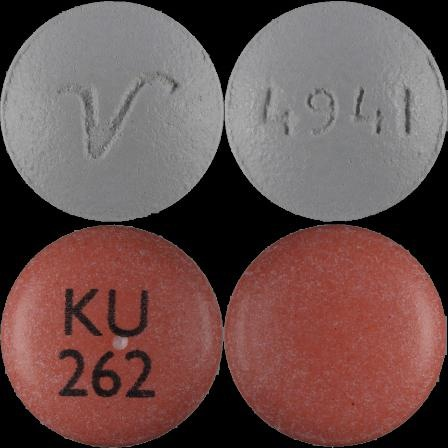68084-602: (0, 0, 224, 224)
